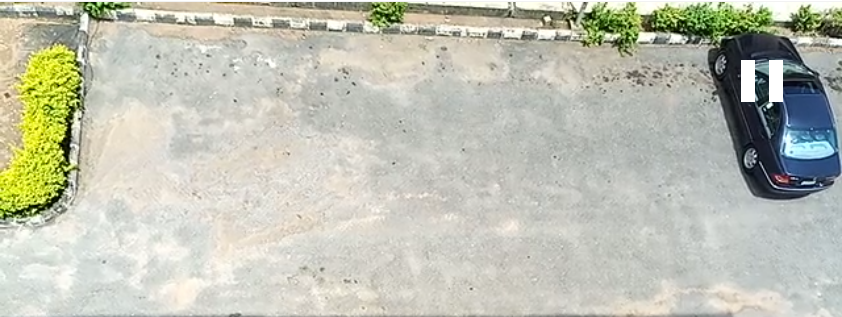one: (54, 2, 214, 213)
three: (457, 9, 588, 209)
two: (275, 6, 407, 206)
